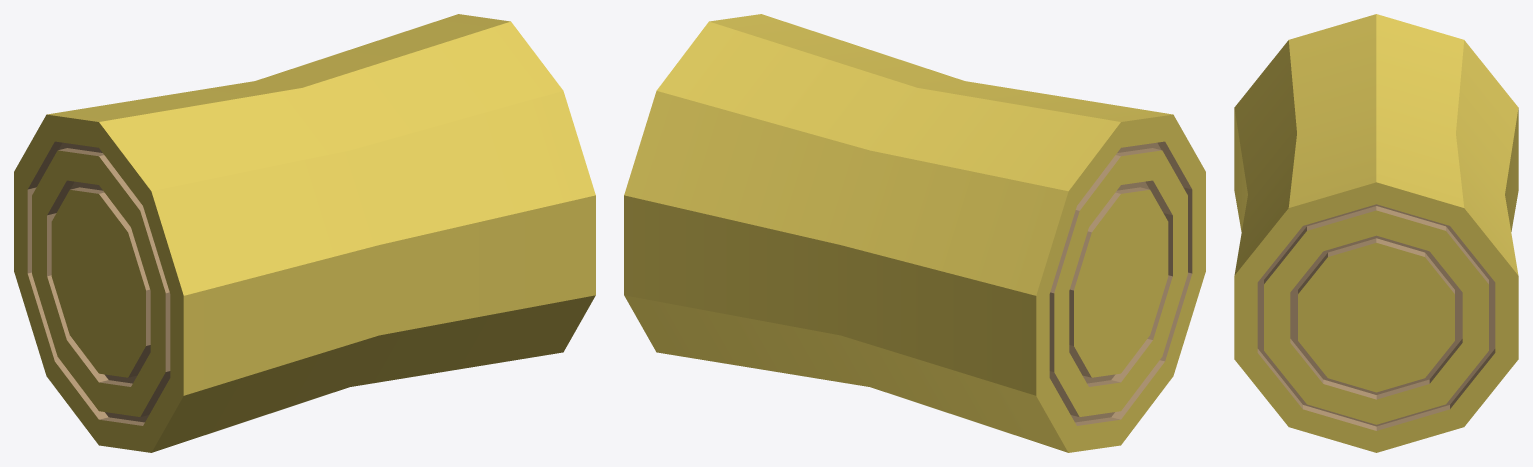
Rendered from rice farm1.fbx.
3 renders of one model, left to right at view 1: azimuth 30°, elevation 25°; view 2: azimuth 150°, elevation 25°; view 3: azimuth 270°, elevation 25°, orthographic. The views are drawn at different scales.
Visible parts, largest first — view 1: pCylinder80; view 2: pCylinder80; view 3: pCylinder80.
Boxes of the visible parts, bbox=[...] form: pCylinder80: bbox=[14, 14, 595, 452]; pCylinder80: bbox=[624, 14, 1205, 452]; pCylinder80: bbox=[1234, 14, 1518, 452].
Bounding box in the file's own units: 2.67 × 2 × 1.9.
